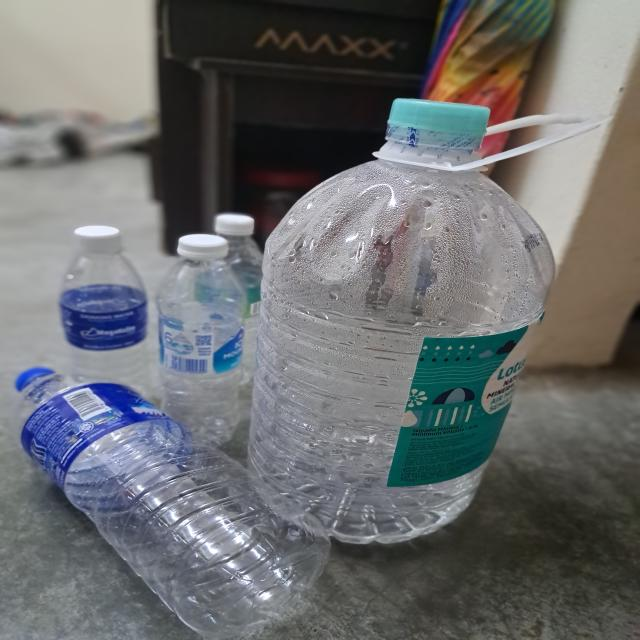plastic bottle: (248, 143, 558, 545), (22, 375, 334, 640), (155, 256, 241, 444), (60, 249, 149, 404), (216, 236, 264, 384)
plastic bottle cap: (388, 96, 491, 139), (177, 234, 230, 258), (15, 366, 55, 392), (75, 225, 119, 247), (214, 213, 255, 235)
